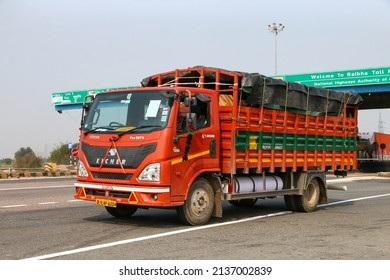truck: (74, 65, 357, 227)
